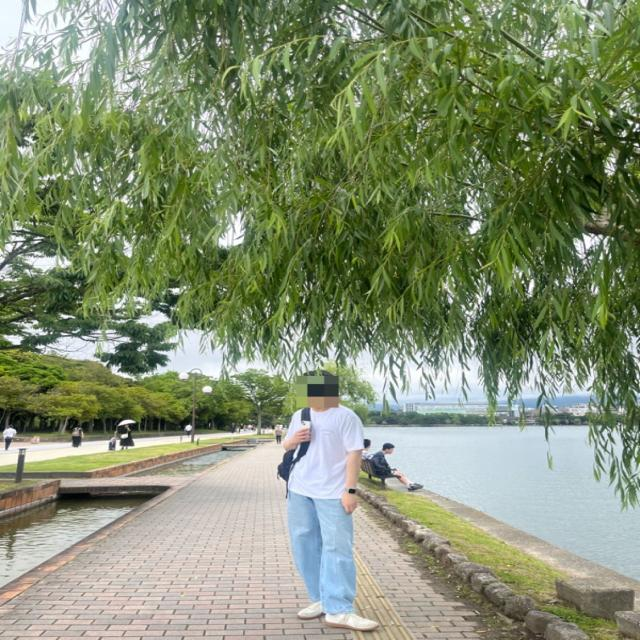denimpants: (288, 489, 356, 616)
shortsleeve: (284, 403, 362, 498)
